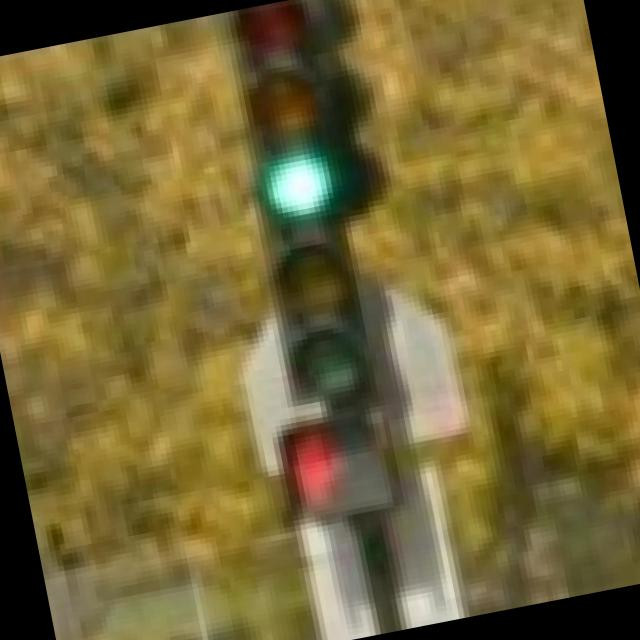green-lights: (235, 140, 352, 238)
